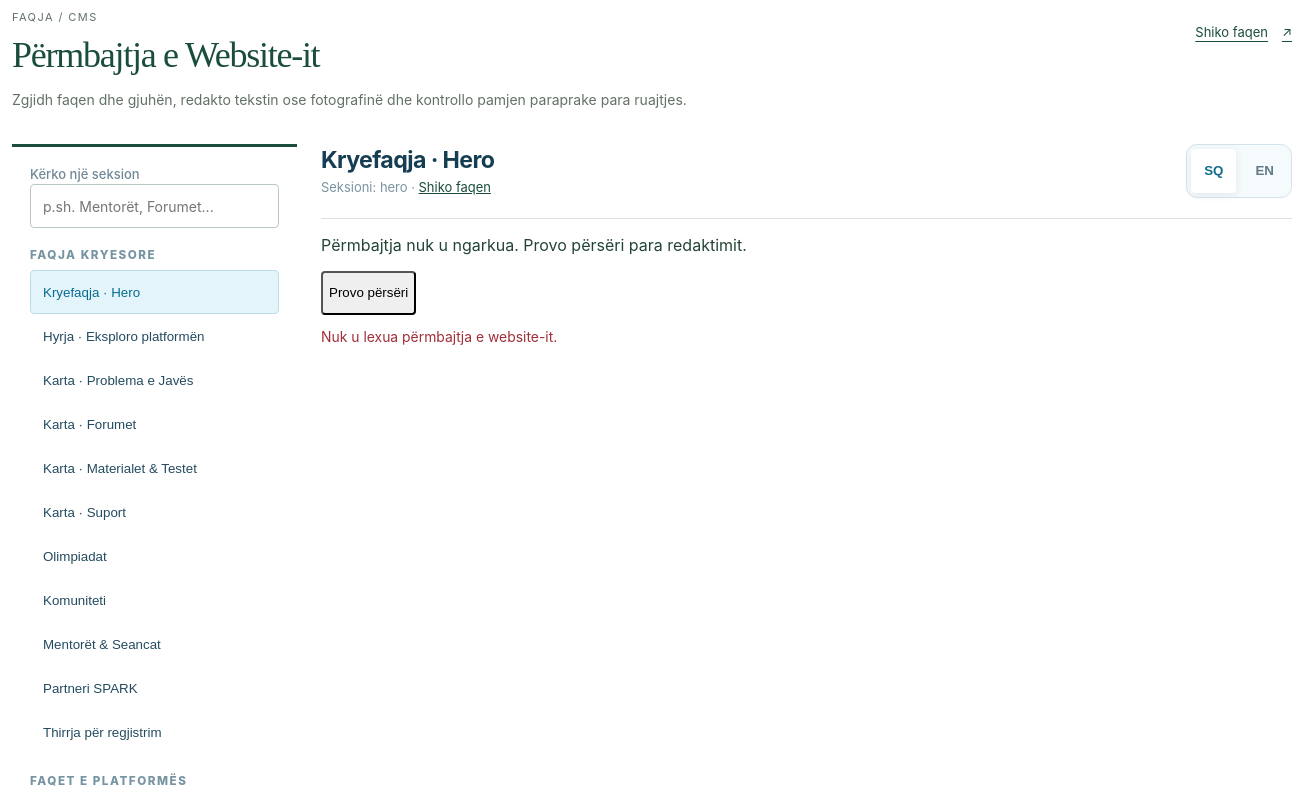
failed CMS load blocks editing until a successful retry
Expected: the field labelled "Titulli (SQ)" is not shown
Expected: the button "Ruaj ndryshimet" is not shown
Click the button "Provo përsëri". click: (369,293)
box: [321, 271, 416, 315]
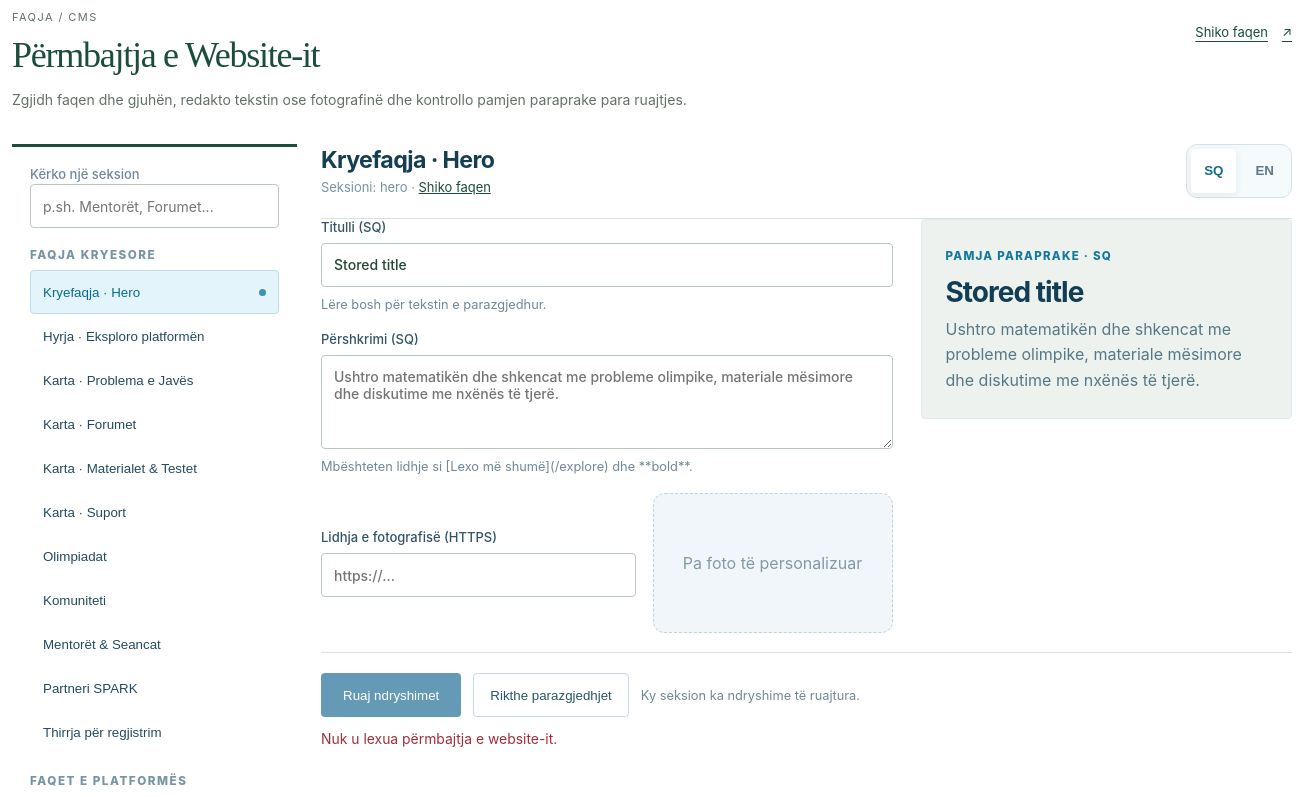
Expected: the field labelled "Titulli (SQ) Lëre bosh për tekstin e parazgjedhur." holds "Stored title", [321, 243, 892, 287]
